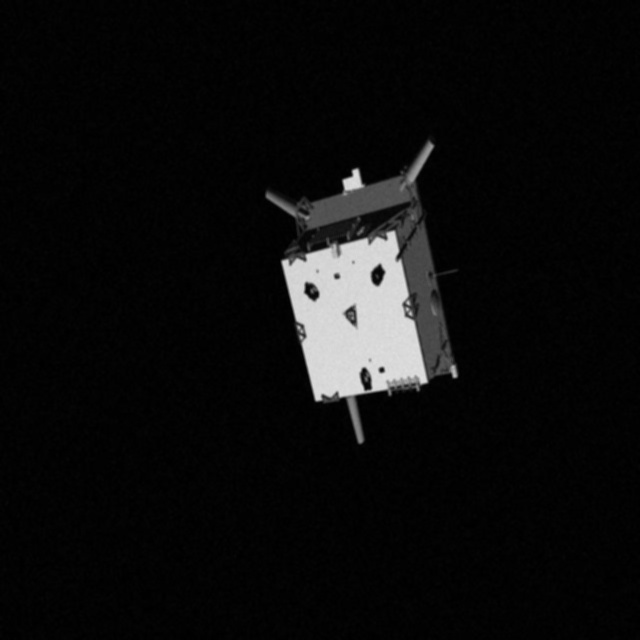satellite: (258, 132, 460, 448)
